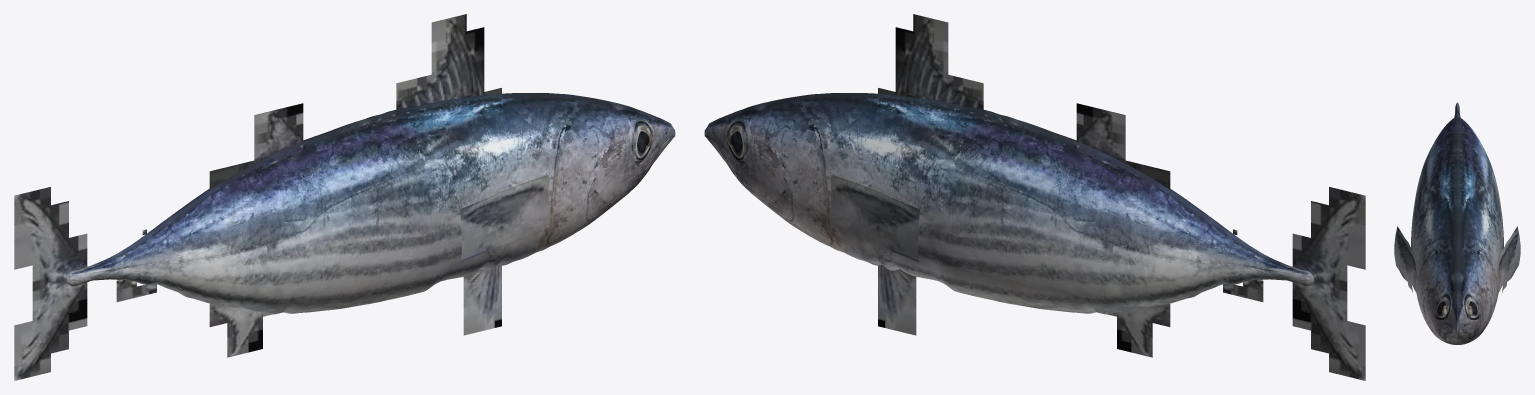
File: real-katsuwonus_pelamis.glb
3 renders of one model, left to right at view 1: azimuth 30°, elevation 25°; view 2: azimuth 150°, elevation 25°; view 3: azimuth 270°, elevation 25°, orthographic. The views are drawn at different scales.
Visible parts, largest first — view 1: katsuwonus_pelamis; view 2: katsuwonus_pelamis; view 3: katsuwonus_pelamis.
Boxes of the visible parts, x1,y1,x2,y2 form: katsuwonus_pelamis: (14,14,675,380); katsuwonus_pelamis: (704,14,1365,380); katsuwonus_pelamis: (1394,102,1520,344).
Bounding box in the file's own units: 0.8013 × 0.3717 × 0.1761.
Materials: 1 (1 with a texture image).
